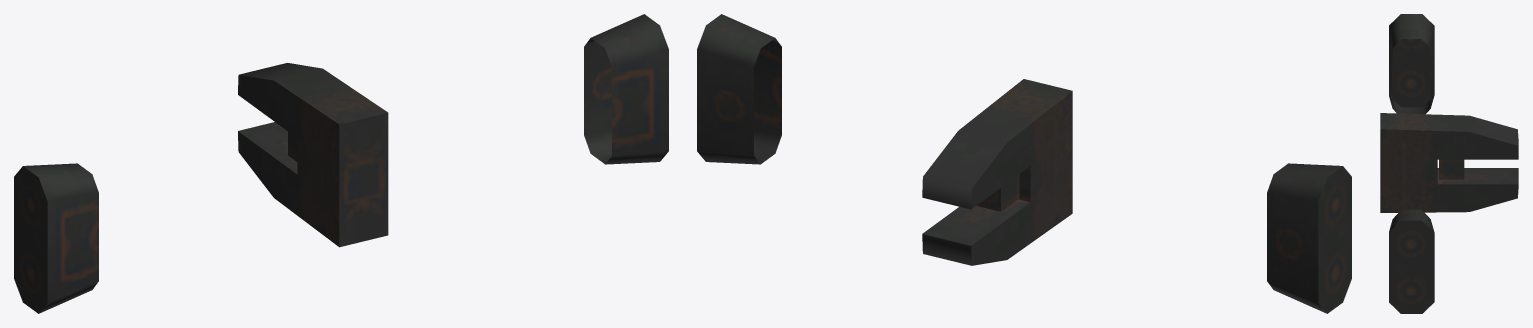
File: track1_segment_2.glb
The picture shows the model from 3 angles, left to right: view 1: azimuth 30°, elevation 25°; view 2: azimuth 150°, elevation 25°; view 3: azimuth 270°, elevation 25°; orthographic projection. The views are drawn at different scales.
Visible parts, largest first — view 1: set_0_group_0; view 2: set_0_group_0; view 3: set_0_group_0.
Part boxes in pixels (left/top/right/bottom): set_0_group_0: left=14, top=14, right=668, bottom=313; set_0_group_0: left=697, top=14, right=1351, bottom=313; set_0_group_0: left=1380, top=14, right=1518, bottom=313.
Bounding box in the file's own units: 0.5795 × 0.122 × 0.164.
1 material, 1 textured.
